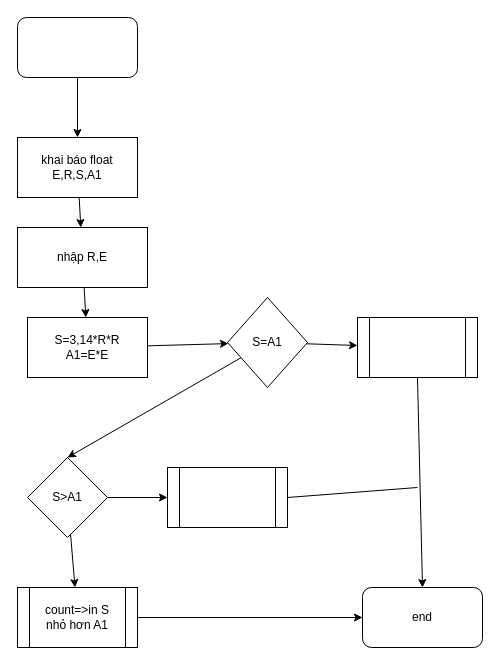
The diagram is 500 pixels wide and 665 high, and some of its shapes have lost their labels. The centre of each missing label's shape, as x and y in pixels:
"count=>in P lớn hơn A1" goes at point 227,497.
"count=>in S bằng A1" goes at point 417,347.
"satrt" goes at point 77,47.
